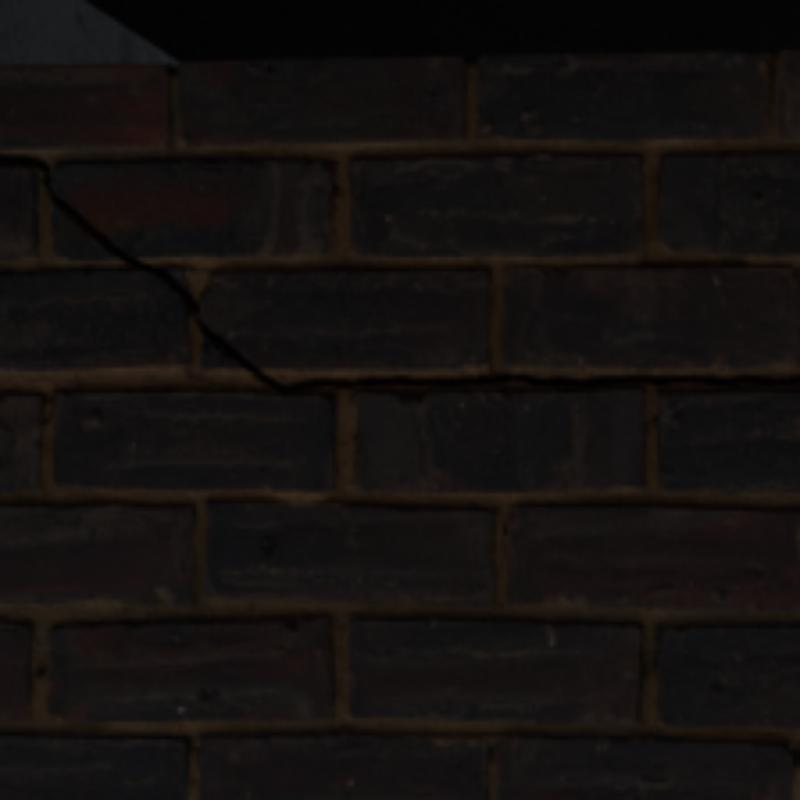pothole: (196, 318, 796, 389), (46, 186, 196, 314), (0, 154, 46, 186)
